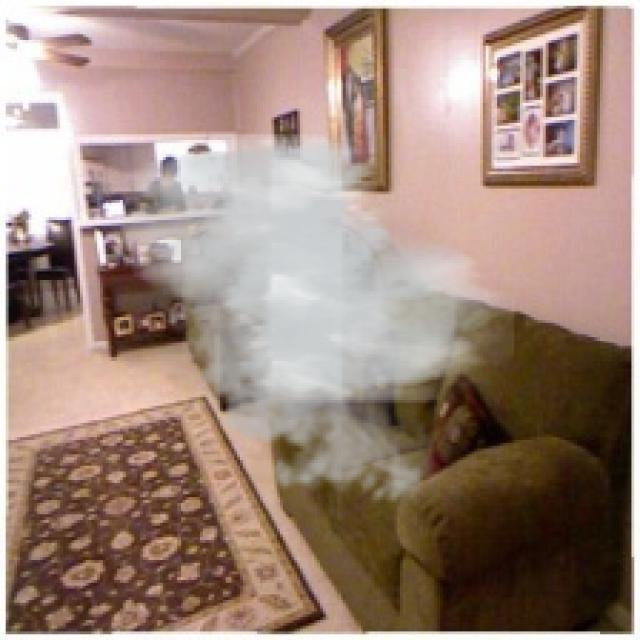Smoke: (97, 135, 514, 514)
